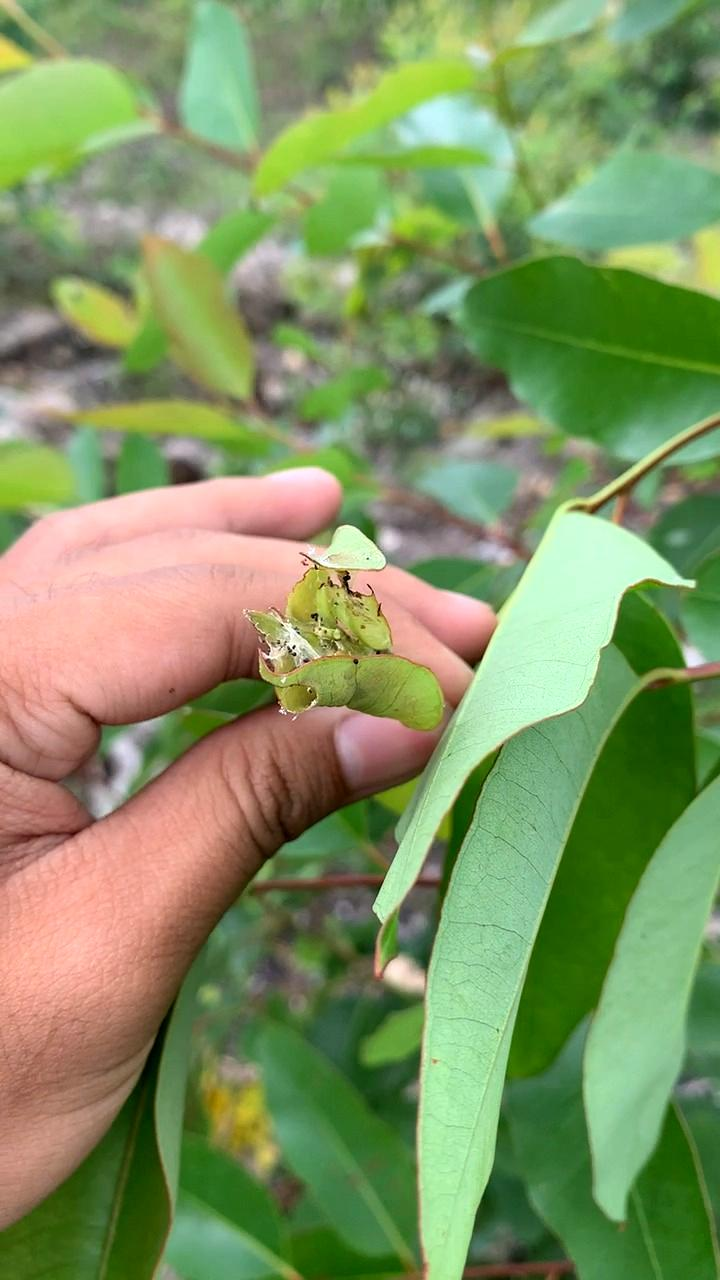Leaf Roller - Leaf: (256, 531, 447, 731)
